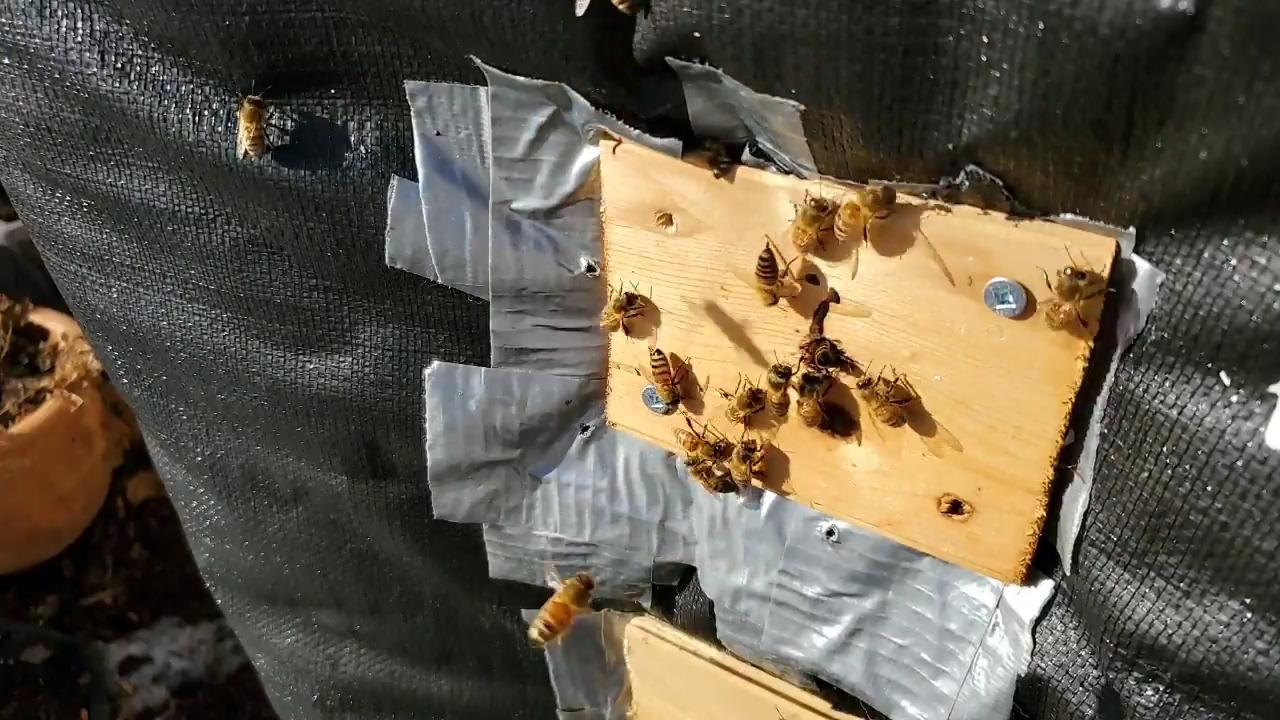bee: (530, 574, 594, 646), (837, 188, 900, 238), (856, 376, 906, 426), (1047, 268, 1087, 327), (790, 200, 827, 252), (650, 348, 681, 404), (684, 456, 733, 491), (240, 96, 268, 157), (676, 428, 724, 460), (602, 291, 638, 332), (726, 389, 766, 421), (754, 250, 778, 303), (733, 439, 756, 489), (767, 365, 788, 416), (801, 372, 821, 425), (814, 338, 836, 364)
